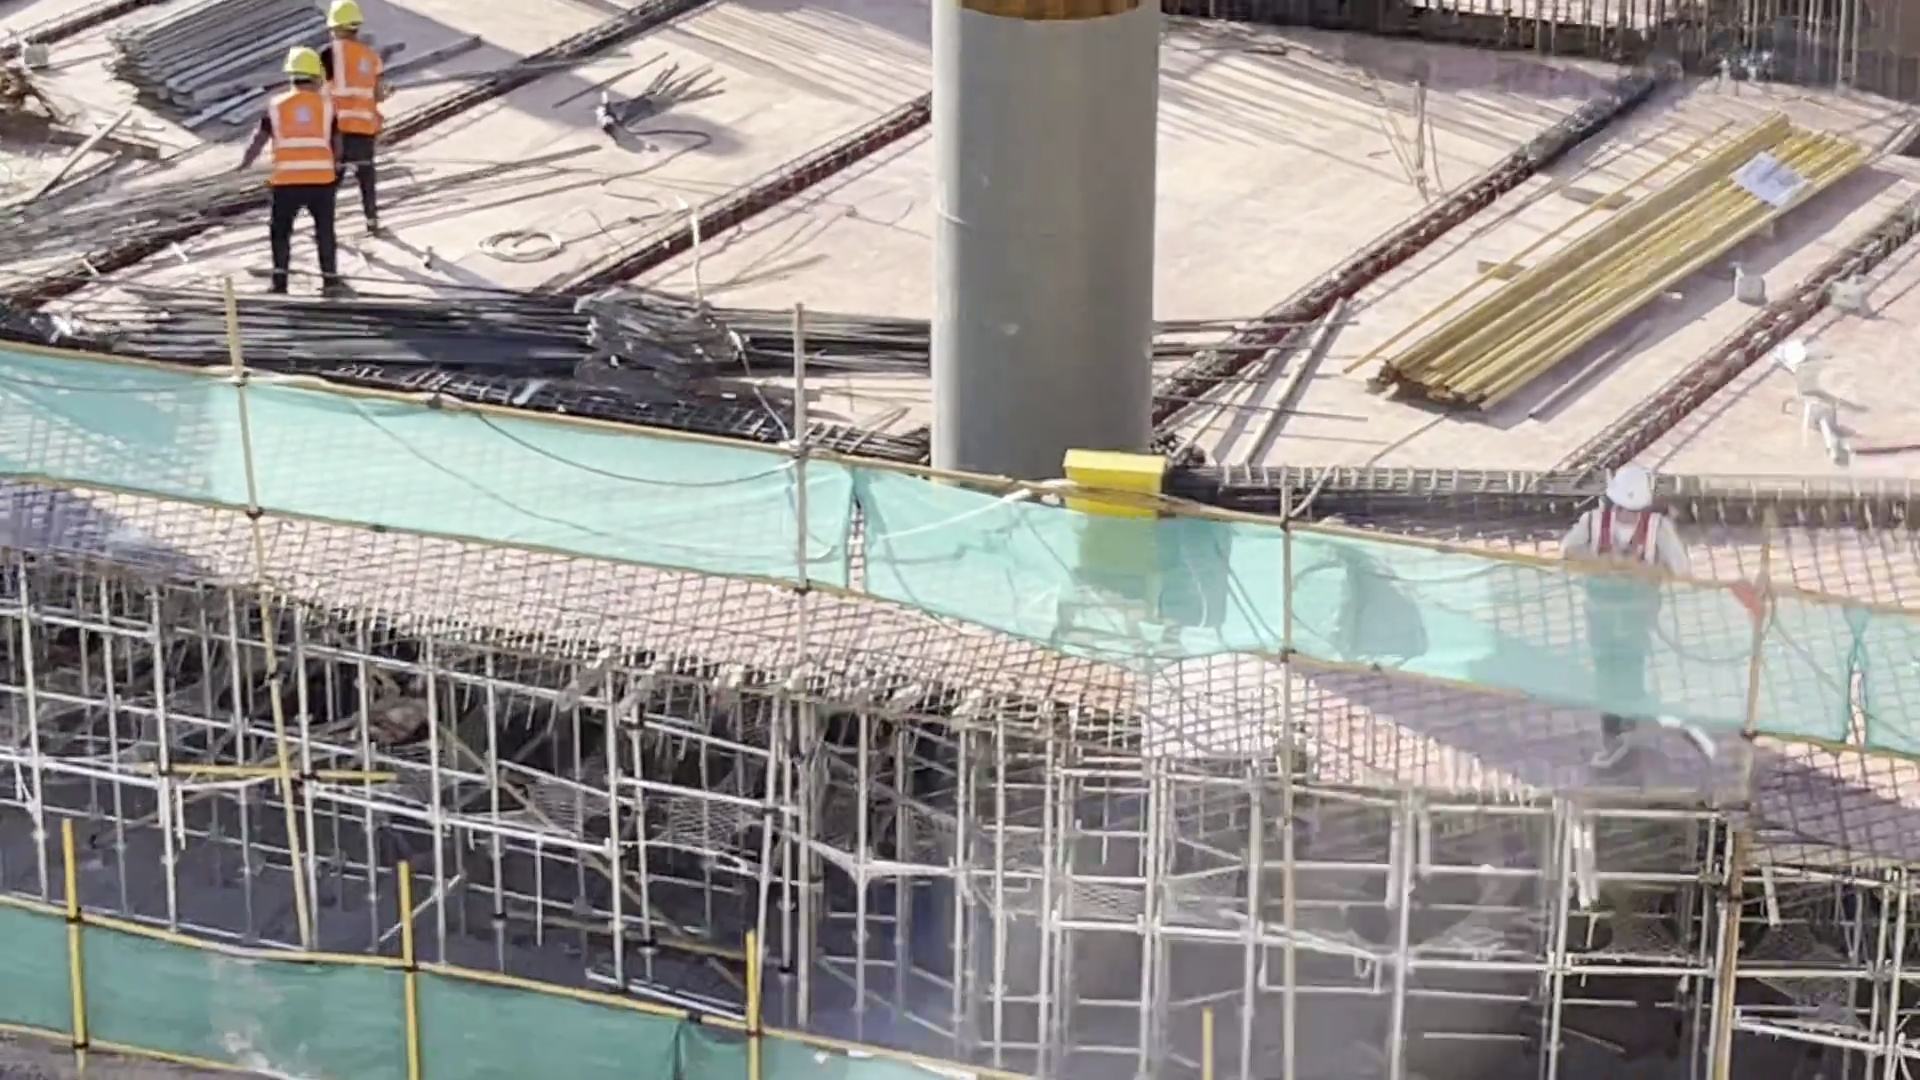helmet: (1605, 460, 1660, 520), (320, 1, 367, 38), (281, 44, 320, 76)
person: (1556, 448, 1693, 760), (238, 48, 366, 300), (301, 6, 392, 241)
vest: (1586, 519, 1661, 626), (264, 92, 346, 189), (318, 45, 394, 141)
